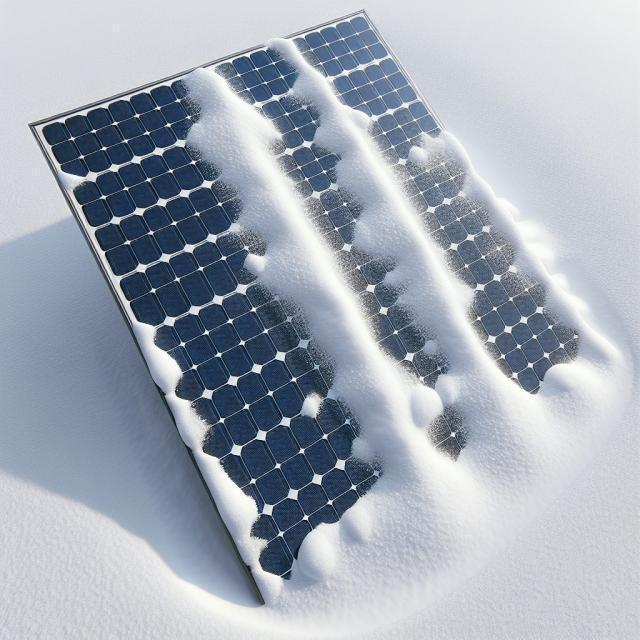Anomaly Solar Panel: (31, 12, 629, 601)
Snow: (9, 0, 630, 605)
